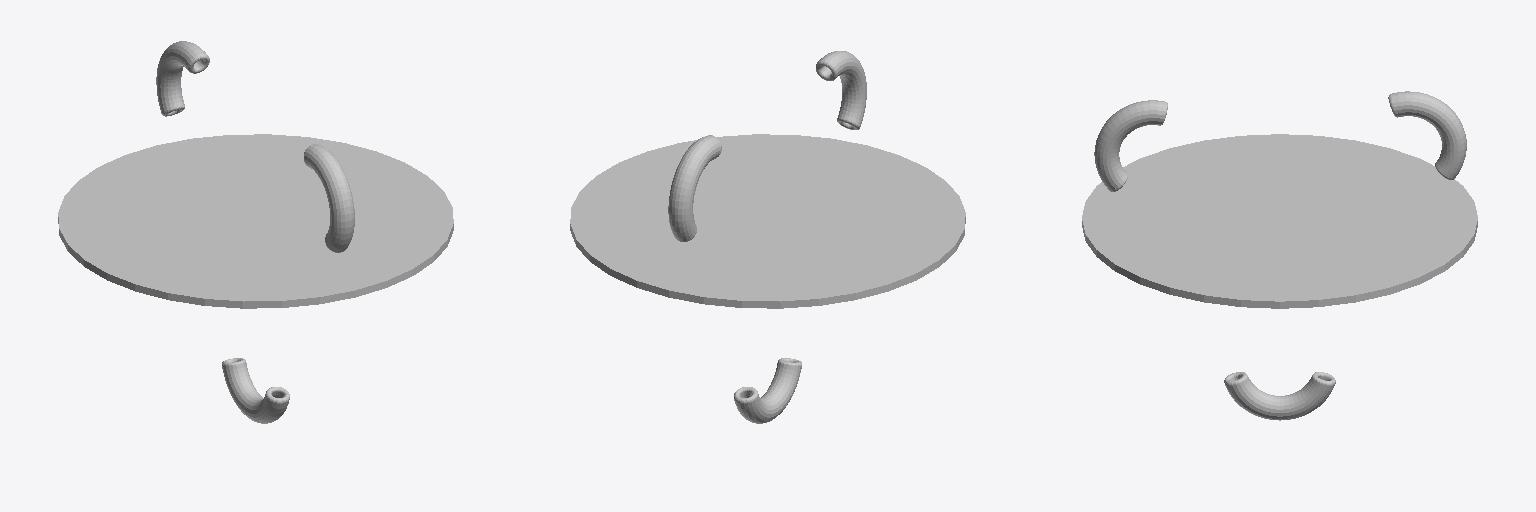
The model's file is noodlesgroup3.obj.
3 renders of one model, left to right at view 1: azimuth 30°, elevation 25°; view 2: azimuth 150°, elevation 25°; view 3: azimuth 270°, elevation 25°, orthographic.
Parts seen in each view (by area): view 1: Cylinder, noodle1_pPipe1; view 2: Cylinder, noodle1_pPipe1; view 3: Cylinder, noodle1_pPipe1.
Part boxes in pixels (x1,y1,x2,y2): Cylinder: (58,134,453,308); noodle1_pPipe1: (156,41,354,423); Cylinder: (570,134,965,308); noodle1_pPipe1: (668,51,866,423); Cylinder: (1082,134,1477,308); noodle1_pPipe1: (1094,91,1466,420).
Size of the model in its own units: 15.87 by 14.44 by 15.87.